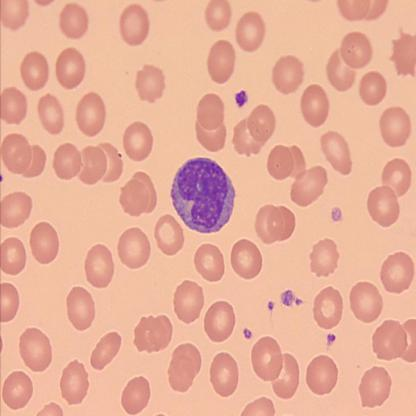Monocyte: (168, 154, 238, 236)
